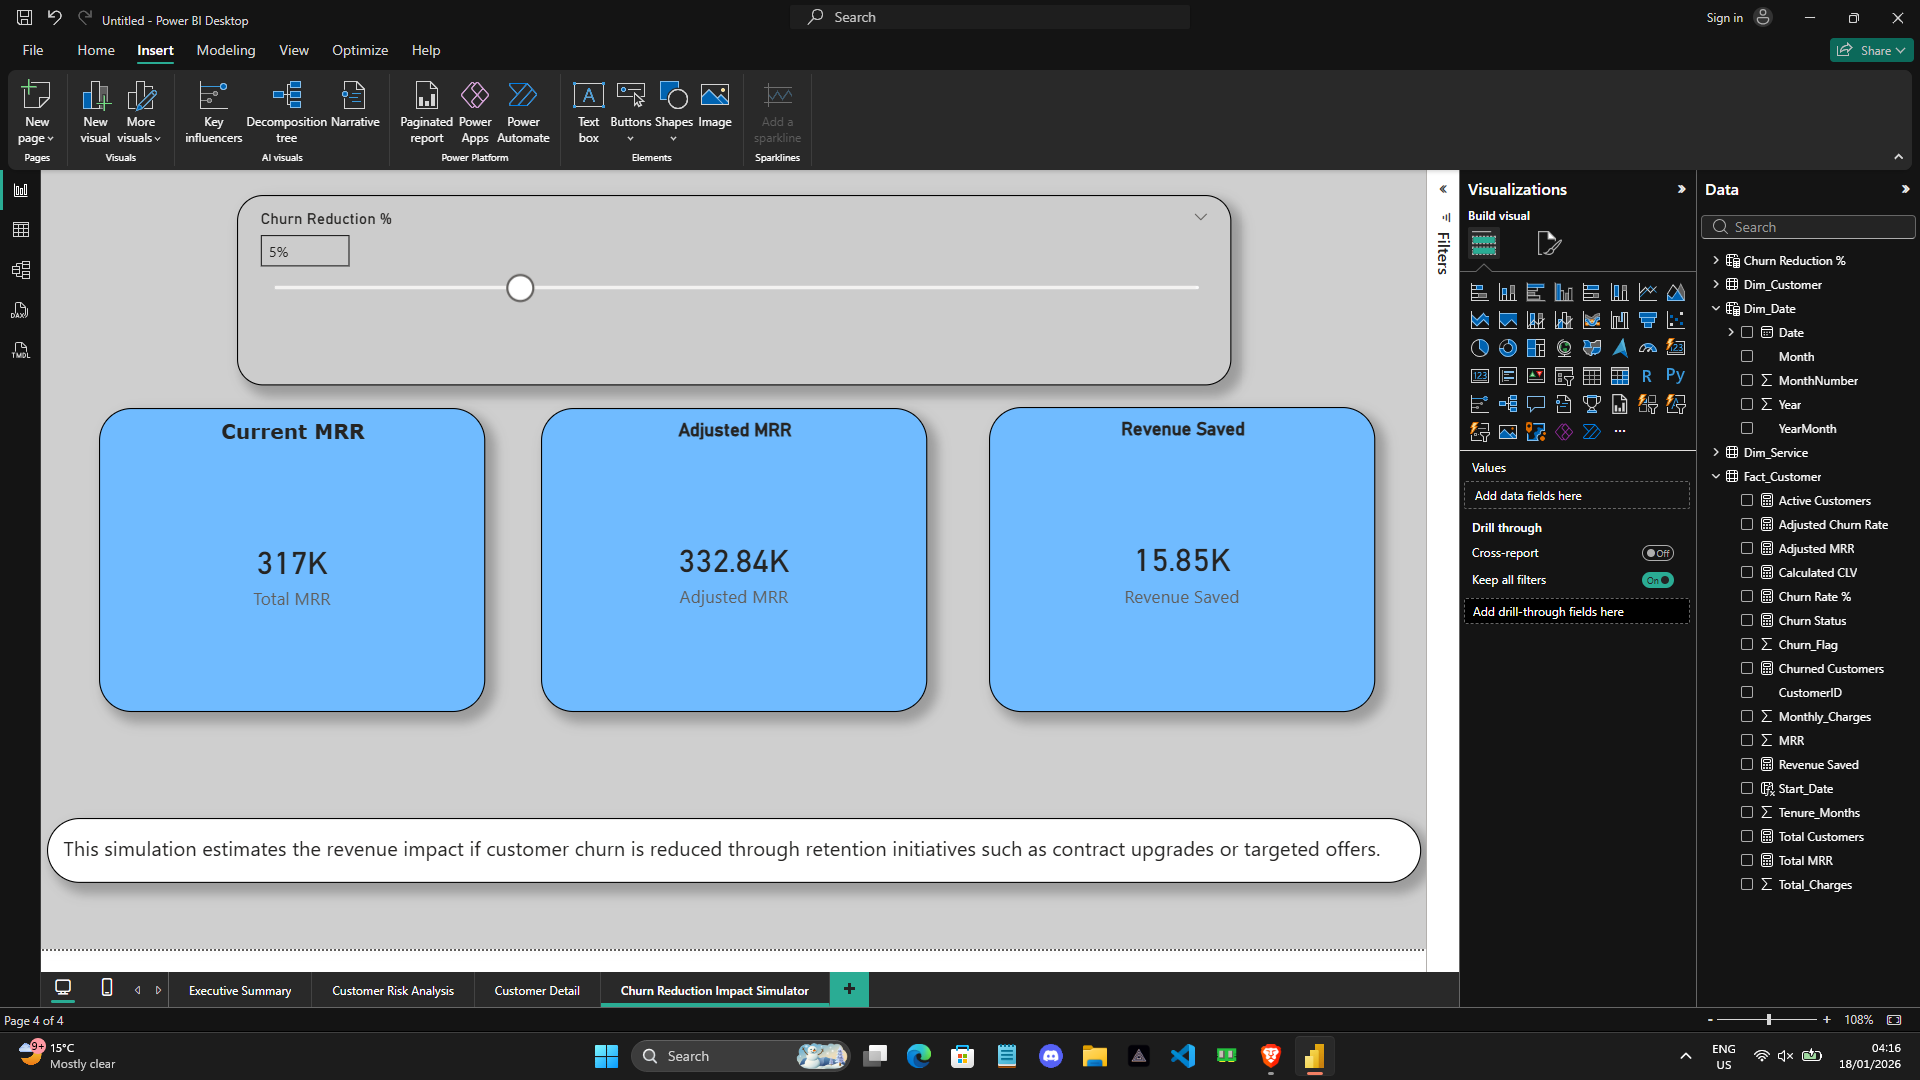

The dashboard page shown, as its layout file describes it:
{"tool":"powerbi","page":{"name":"Churn Reduction Impact Simulator","canvas":[1280,720],"ordinal":3},"visuals":[{"type":"slicer","fields":{"Values":["Churn Reduction %.Churn Reduction %"]},"box":[181.1,23.1,918.6,175.6],"z":0},{"type":"card","title":"Adjusted MRR","fields":{"Values":["Fact_Customer.Adjusted MRR"]},"box":[462.1,220,356.7,281],"z":1},{"type":"card","title":"Revenue Saved","fields":{"Values":["Fact_Customer.Revenue Saved"]},"box":[876.1,219,356.7,281.9],"z":2},{"type":"card","title":"Current MRR","fields":{"Values":["Fact_Customer.Total MRR"]},"box":[53.6,220,356.7,281],"z":3},{"type":"textbox","box":[5.5,598.9,1269.8,60.1],"z":4}]}

Visuals, with their boxes on the page's 1280x720 design canvas (x1, y1, x2, y2). These are canvas units, not pixel positions in the 1920x1080 screenshot, which may show the page scaled, cropped or inside an application window:
slicer - Churn Reduction %.Churn Reduction %: <region>181, 23, 1100, 199</region>
"Adjusted MRR" card: <region>462, 220, 819, 501</region>
"Revenue Saved" card: <region>876, 219, 1233, 501</region>
"Current MRR" card: <region>54, 220, 410, 501</region>
textbox: <region>6, 599, 1275, 659</region>
